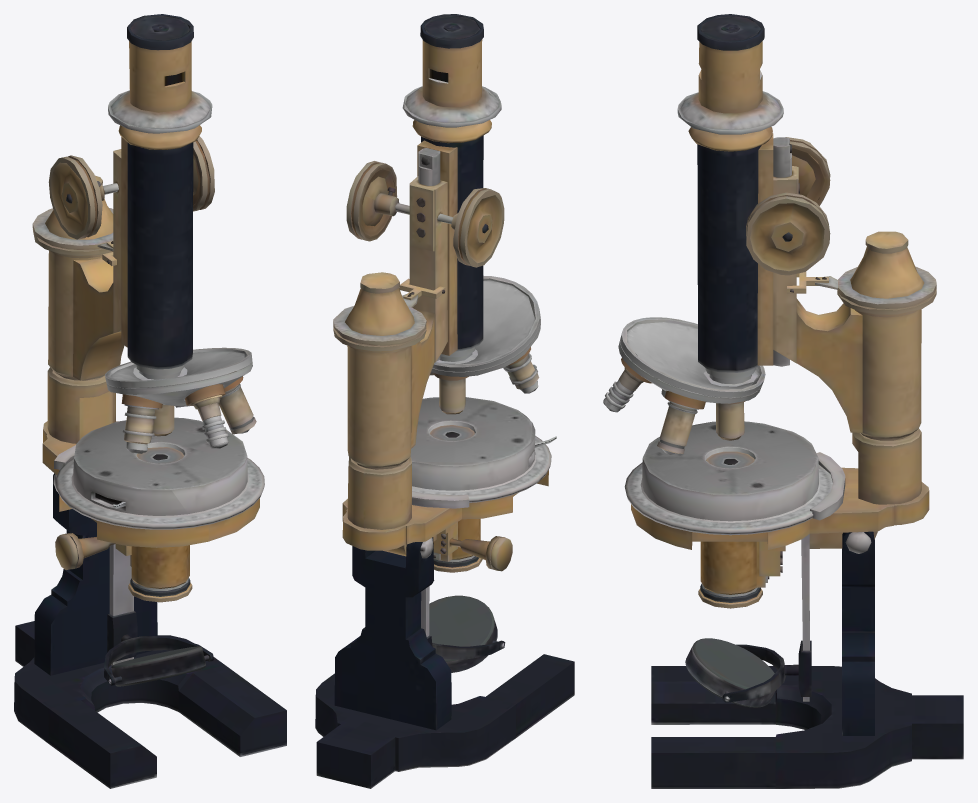
Rendered from vintage_microscope.glb.
3 views of the same model, side by side, from view 1: azimuth 30°, elevation 25°; view 2: azimuth 150°, elevation 25°; view 3: azimuth 270°, elevation 25° (orthographic). The views are drawn at different scales.
Visible parts, largest first — view 1: vintage_microscope_mirror_arm, vintage_microscope_mirror_base; view 2: vintage_microscope_mirror_arm, vintage_microscope_mirror_base; view 3: vintage_microscope_mirror_arm, vintage_microscope_mirror_base.
Part boxes in pixels (<box>): vintage_microscope_mirror_arm: <box>14,14,286,788</box>; vintage_microscope_mirror_base: <box>111,646,205,686</box>; vintage_microscope_mirror_arm: <box>315,14,574,788</box>; vintage_microscope_mirror_base: <box>429,595,494,672</box>; vintage_microscope_mirror_arm: <box>603,14,963,788</box>; vintage_microscope_mirror_base: <box>686,638,774,707</box>.
Bounding box in the file's own units: 0.1068 × 0.3996 × 0.1818.
Materials: 2 (2 with a texture image).
